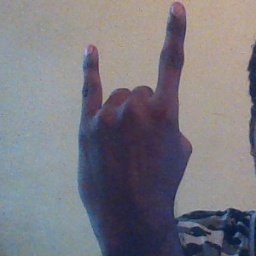V: (74, 1, 197, 218)
